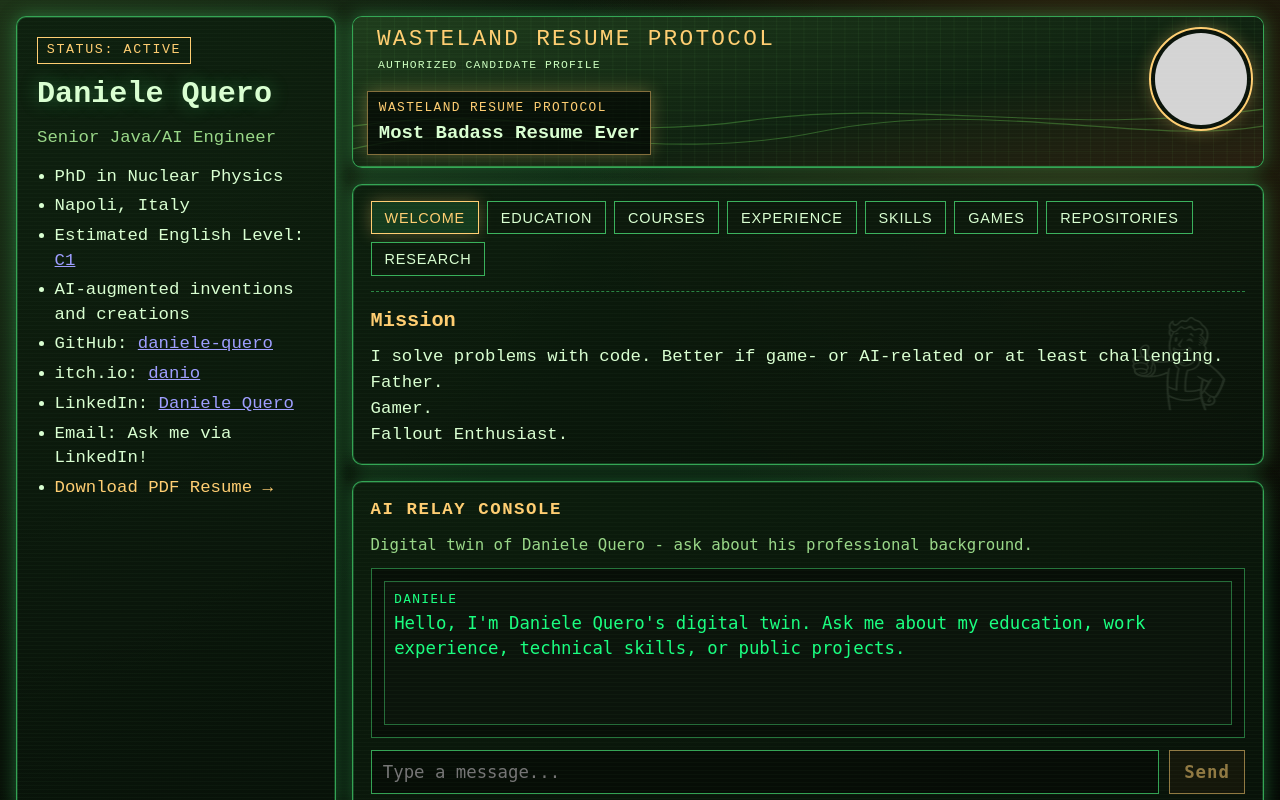
Test: App - chat visibility by active tab › renders Repo as clickable label in Repositories without showing raw Link URL text
Click the tab "Repositories".
click(1120, 218)  # box [1046,201,1192,234]
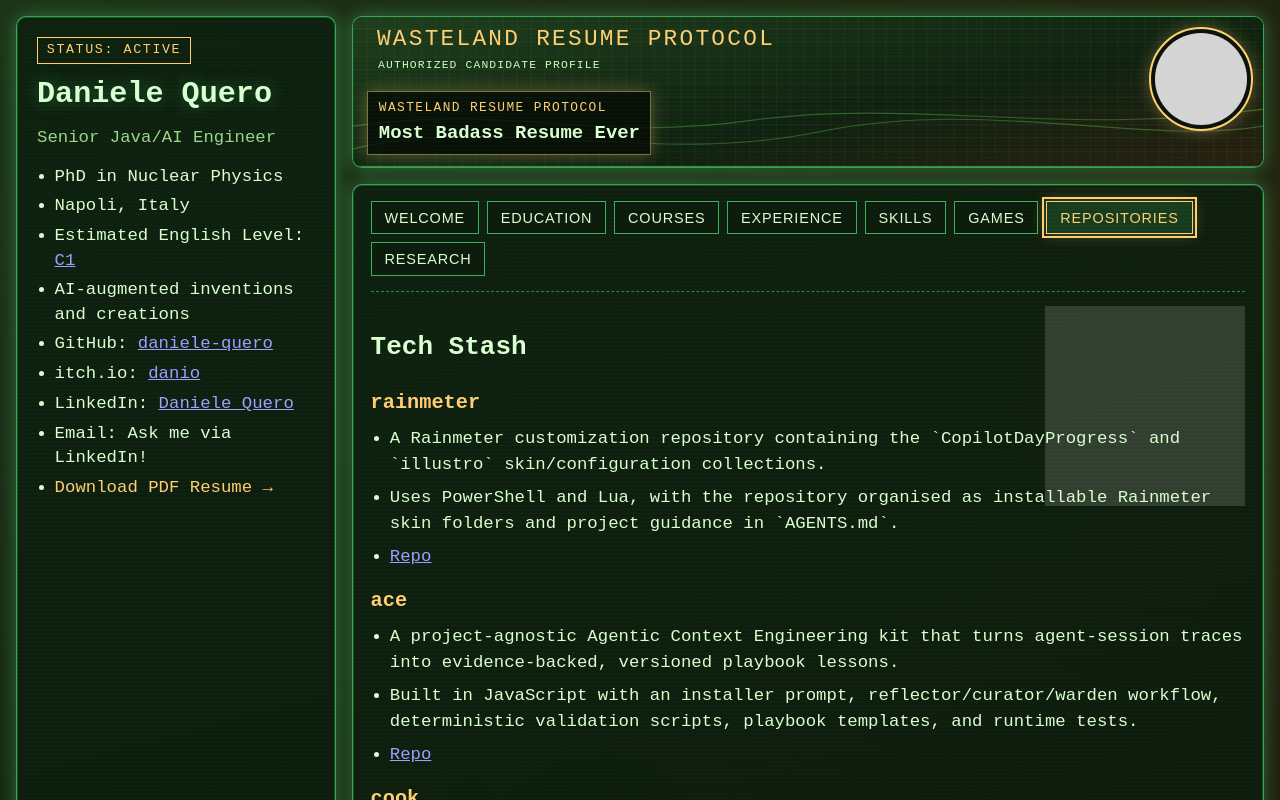
Check: the 1st link "Repo" is shown, box [390,547,431,566]
